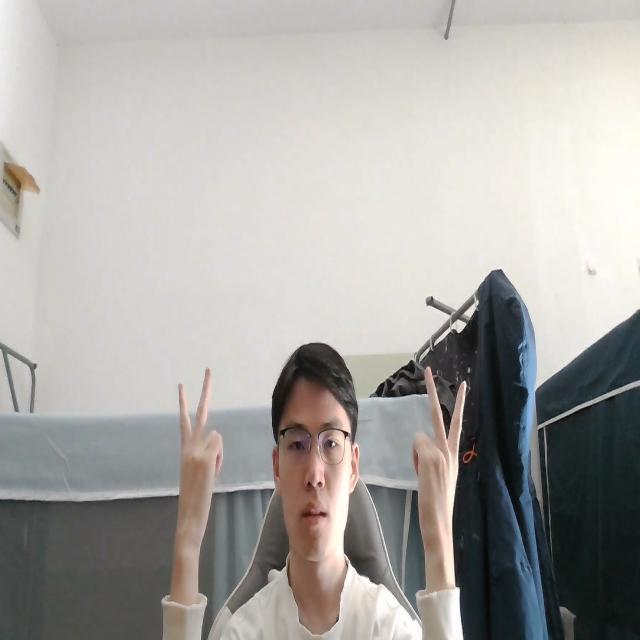yes: (409, 361, 466, 567), (173, 362, 225, 544)
